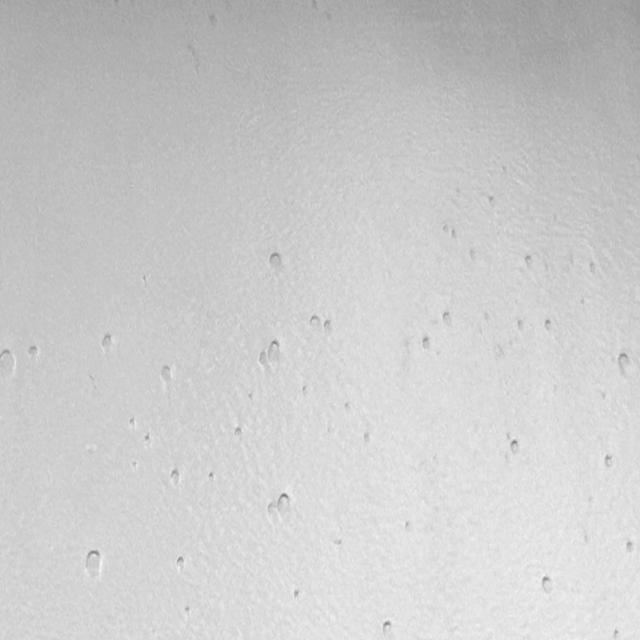pin holes: (270, 490, 296, 520), (614, 352, 638, 384), (82, 548, 105, 581), (262, 338, 285, 366), (0, 350, 17, 382), (521, 250, 540, 276), (538, 573, 558, 597), (157, 362, 176, 387), (267, 251, 286, 275), (100, 332, 119, 355), (506, 437, 525, 460), (399, 517, 419, 537), (379, 619, 398, 639), (465, 247, 483, 267), (623, 537, 639, 559), (362, 427, 378, 449), (602, 452, 619, 472), (418, 335, 434, 355), (206, 10, 222, 30), (440, 309, 456, 328), (26, 342, 41, 362), (306, 312, 321, 331), (169, 468, 183, 488), (587, 260, 601, 279), (174, 554, 187, 574), (543, 316, 557, 334), (514, 315, 528, 333), (324, 316, 337, 334), (232, 424, 245, 442), (342, 399, 354, 417), (440, 222, 452, 239), (333, 536, 347, 550), (292, 587, 304, 603), (127, 414, 139, 430), (142, 432, 154, 448), (486, 194, 498, 210), (610, 626, 625, 638), (597, 390, 609, 405), (139, 272, 151, 287), (183, 604, 194, 620), (206, 471, 218, 485), (448, 228, 460, 242), (300, 383, 311, 398), (245, 391, 256, 405), (130, 460, 140, 474)
